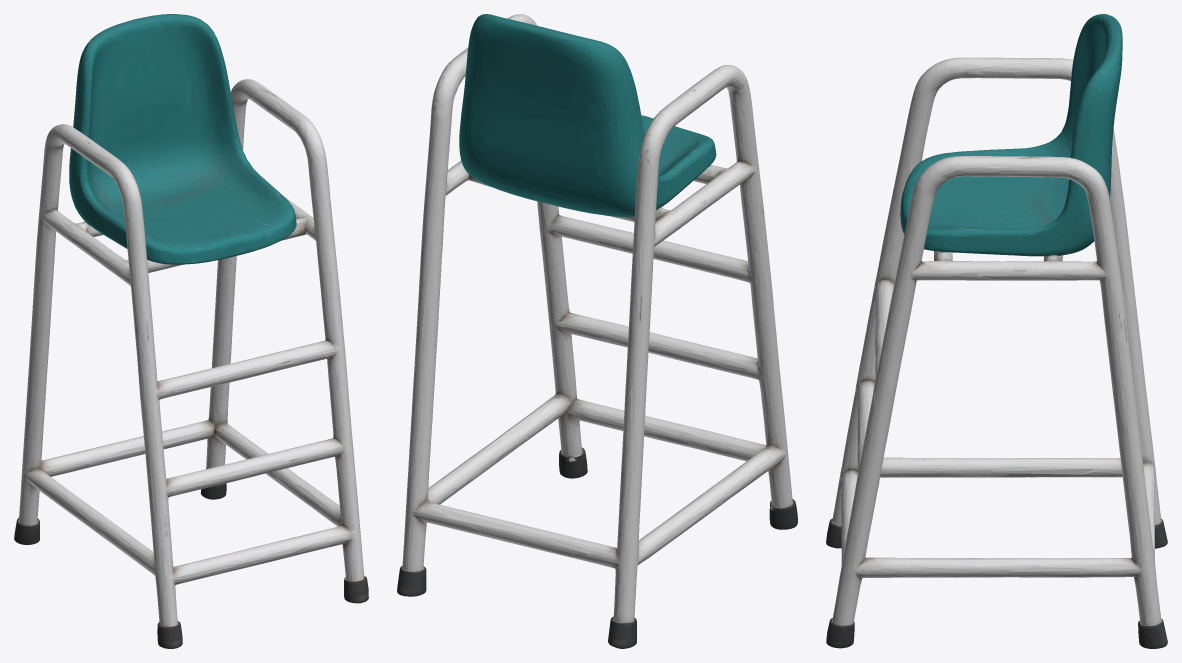
Rendered from sedia_bagnino.glb.
3 renders of one model, left to right at view 1: azimuth 30°, elevation 25°; view 2: azimuth 150°, elevation 25°; view 3: azimuth 270°, elevation 25°, orthographic. The views are drawn at different scales.
Visible parts, largest first — view 1: Mesh_0; view 2: Mesh_0; view 3: Mesh_0.
Boxes of the visible parts, x1,y1,x2,y2 form: Mesh_0: (14, 14, 368, 648); Mesh_0: (397, 14, 797, 648); Mesh_0: (826, 14, 1167, 648).
Bounding box in the file's own units: 0.8142 × 1.9 × 1.05.
Materials: 1 (1 with a texture image).
